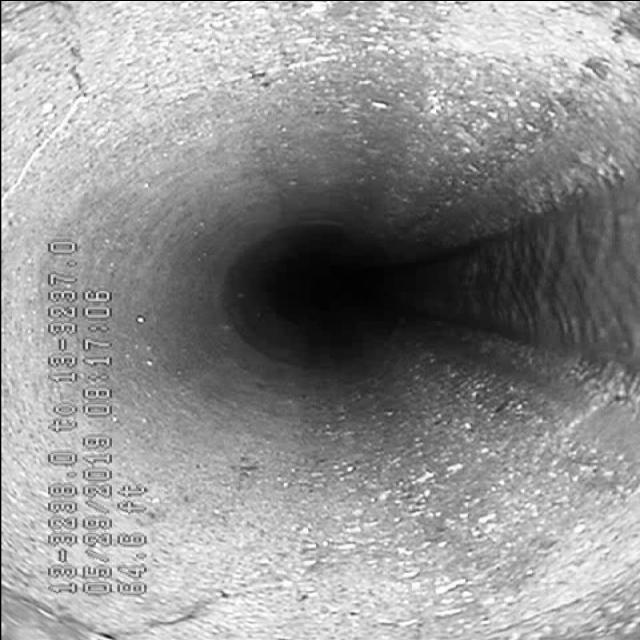Crack: (23, 3, 115, 139)
